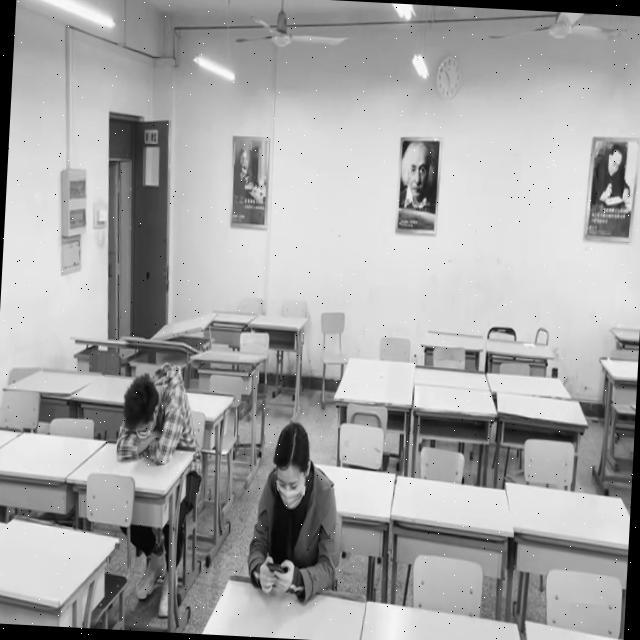phone: (245, 420, 342, 598)
sleep: (115, 358, 194, 463)
